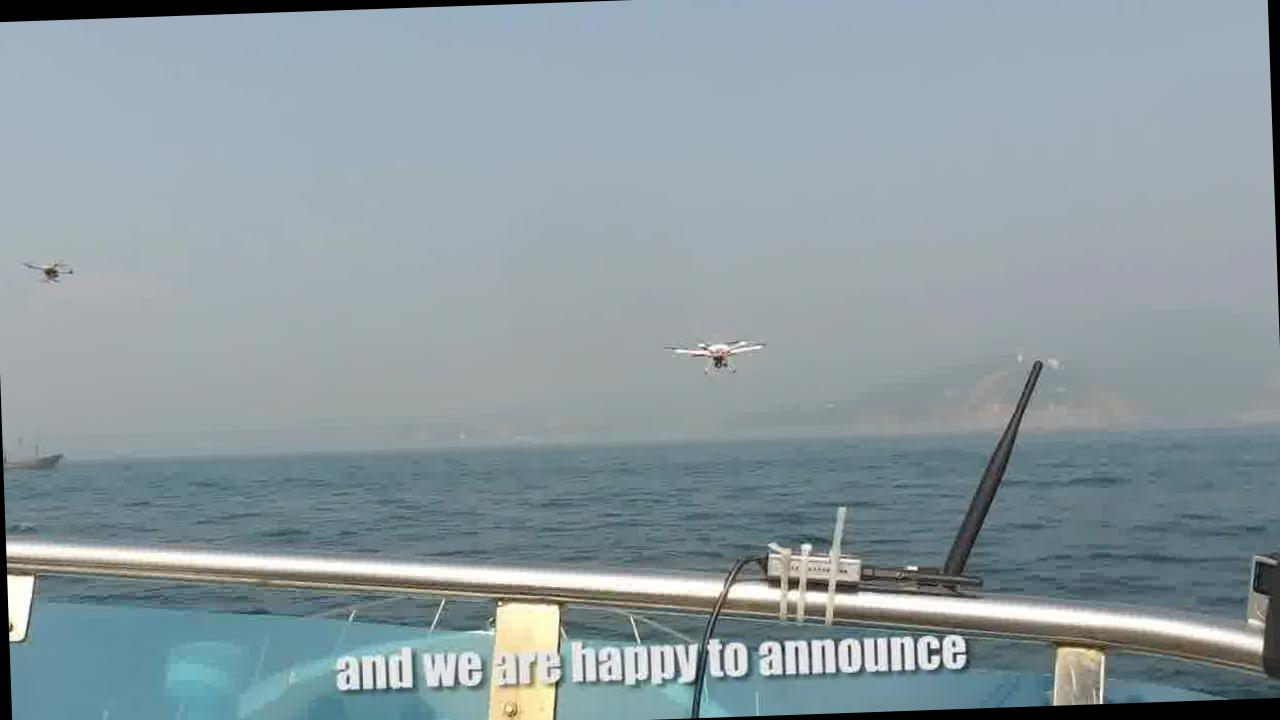drone: (661, 330, 773, 382), (13, 254, 74, 286)
